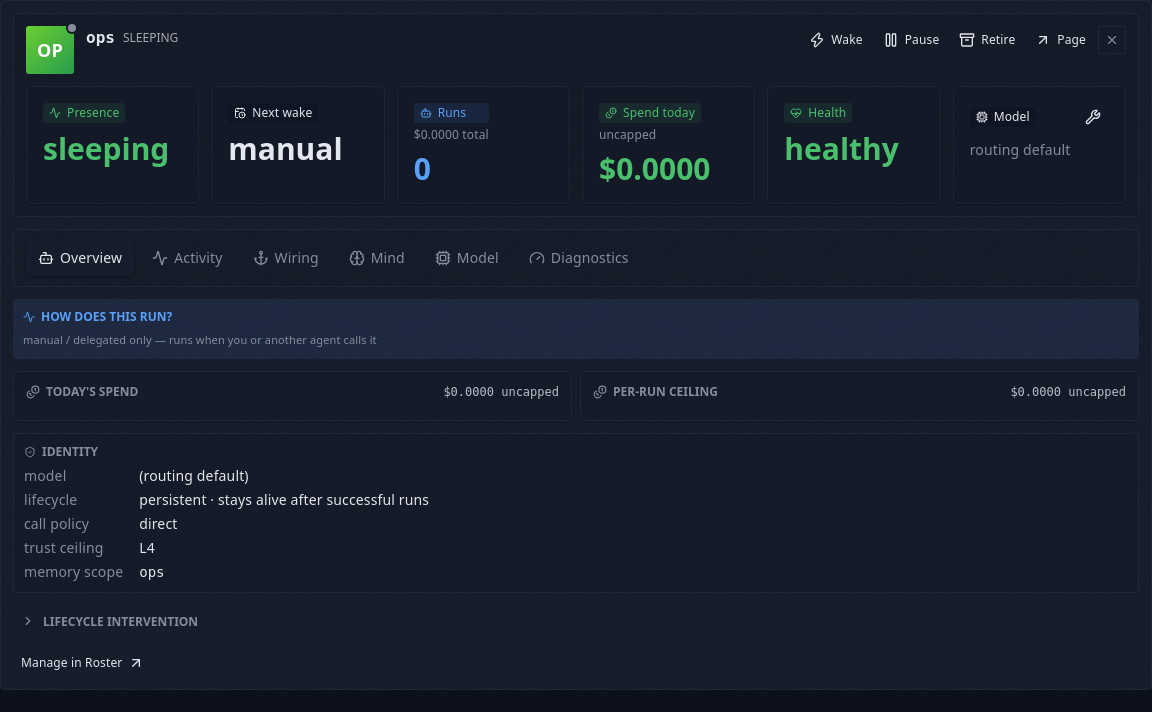
Test: AgentDetail lifecycle intervention › can wake a directly callable agent from the identity header
Click the button with aria-label "Wake ops".
click(836, 40)  # box [801, 26, 871, 54]
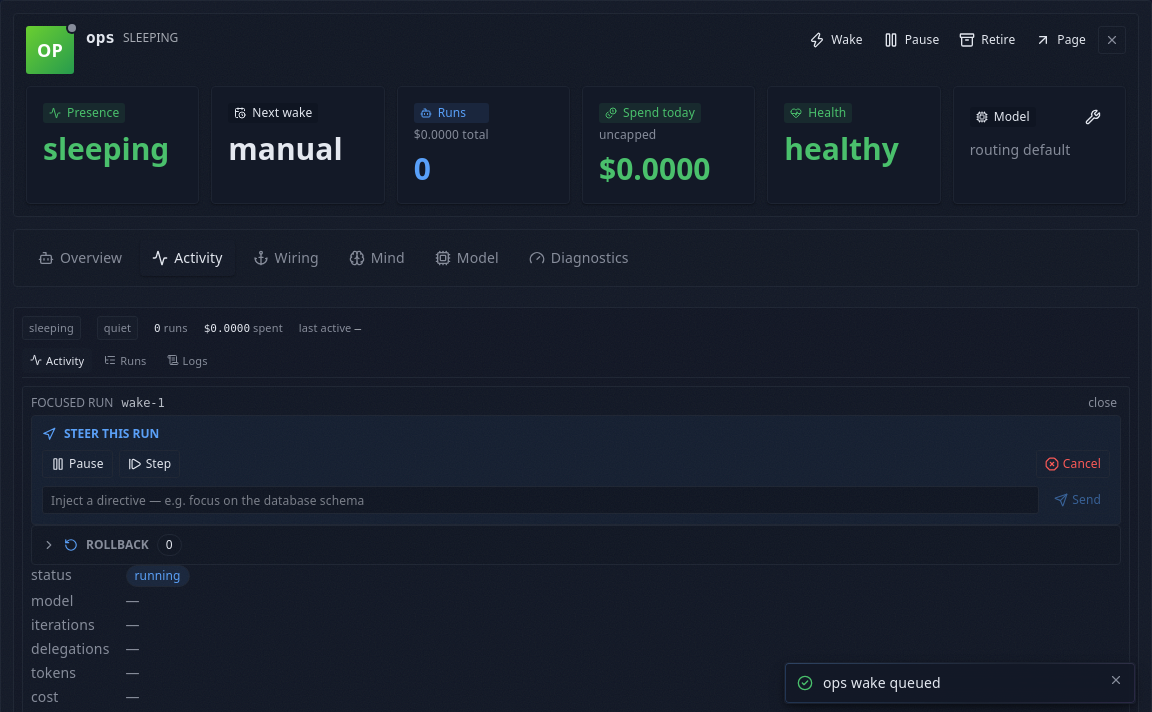
Expected: the text "focused run" is shown, [31, 395, 114, 411]
